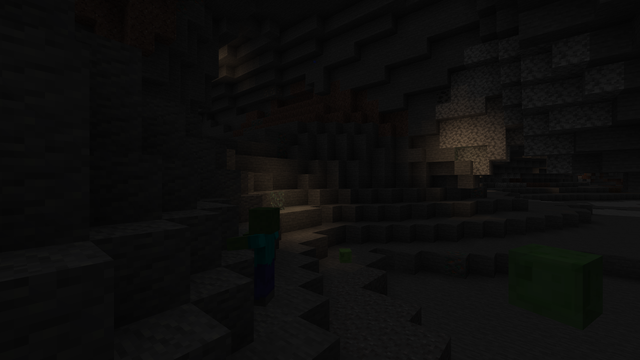slimes: (515, 240, 601, 331), (337, 247, 353, 263)
zombies: (244, 208, 283, 310)
